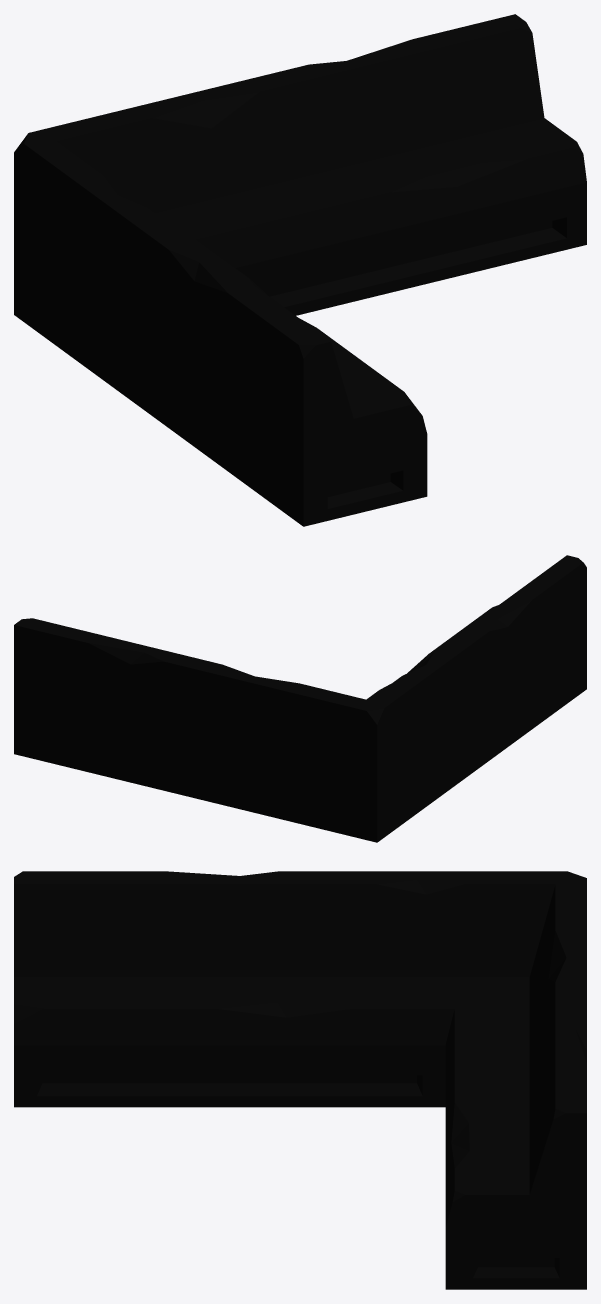
The model's file is space_SM_Prop_CornerSeat_01.gltf.
The picture shows the model from 3 angles, top to bottom: view 1: azimuth 30°, elevation 25°; view 2: azimuth 150°, elevation 25°; view 3: azimuth 270°, elevation 25°; orthographic projection. The views are drawn at different scales.
Visible parts, largest first — view 1: SM_Prop_CornerSeat_01; view 2: SM_Prop_CornerSeat_01; view 3: SM_Prop_CornerSeat_01.
Part boxes in pixels (x1,y1,x2,y2): SM_Prop_CornerSeat_01: (14,14,586,526); SM_Prop_CornerSeat_01: (14,555,586,842); SM_Prop_CornerSeat_01: (14,871,586,1289).
Size of the model in its own units: 3.13 by 1.06 by 3.13.
1 material, 1 textured.
